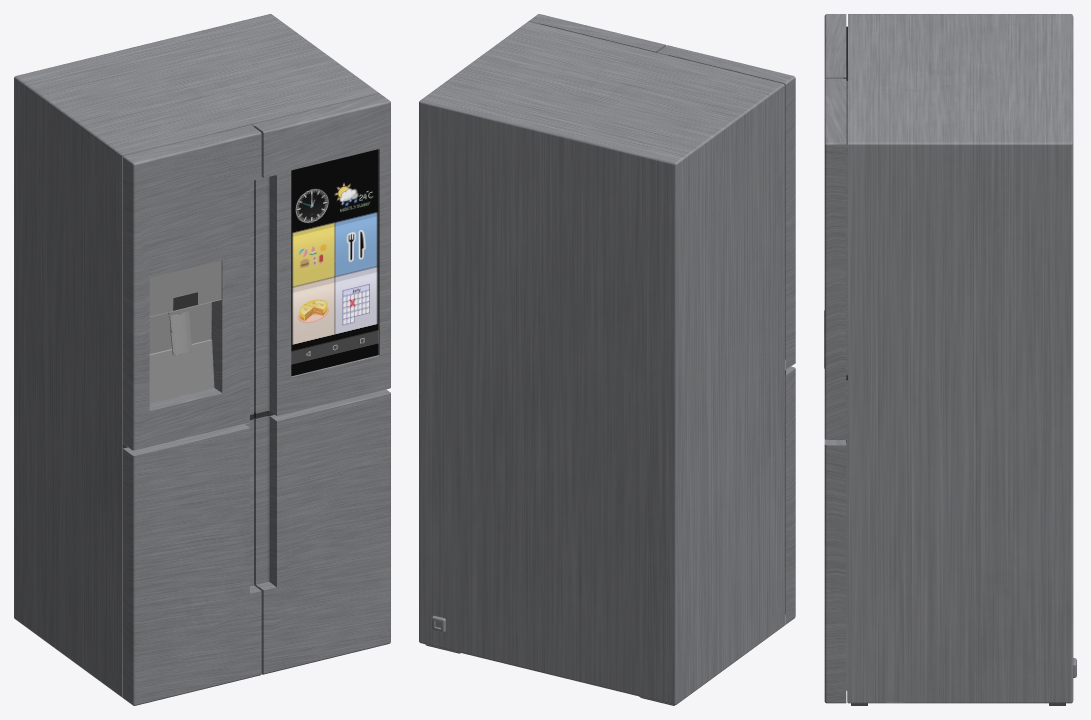
Rendered from refrigerator_type_1.glb.
3 views of the same model, side by side, from view 1: azimuth 30°, elevation 25°; view 2: azimuth 150°, elevation 25°; view 3: azimuth 270°, elevation 25° (orthographic). The views are drawn at different scales.
Visible parts, largest first — view 1: refrigerator; view 2: refrigerator; view 3: refrigerator.
Part boxes in pixels (bbox=[...]): refrigerator: bbox=[14, 14, 390, 705]; refrigerator: bbox=[419, 14, 795, 705]; refrigerator: bbox=[824, 14, 1076, 705].
Bounding box in the file's own units: 0.9099 × 1.84 × 0.7452.
4 materials, 2 textured.
